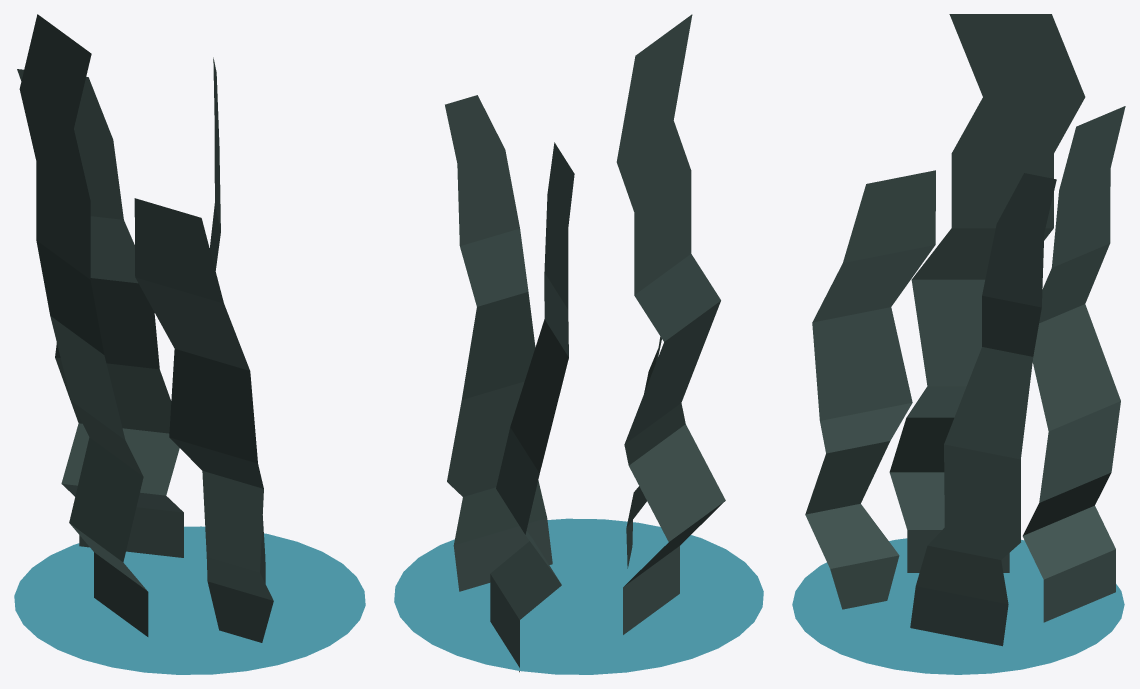
Rendered from Seaweed.fbx.
3 renders of one model, left to right at view 1: azimuth 30°, elevation 25°; view 2: azimuth 150°, elevation 25°; view 3: azimuth 270°, elevation 25°, orthographic. The views are drawn at different scales.
Parts seen in each view (by area): view 1: Seaweed; view 2: Seaweed; view 3: Seaweed.
Boxes of the visible parts, x1,y1,x2,y2 form: Seaweed: (14,14,365,674); Seaweed: (394,14,763,674); Seaweed: (792,14,1125,674).
Size of the model in its own units: 130 by 236 by 130.
